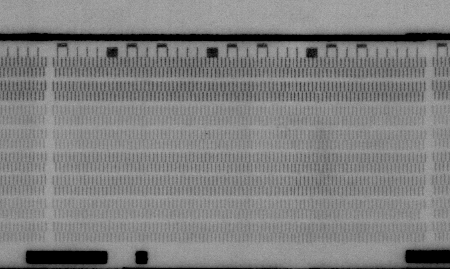Broken hole: (417, 207, 428, 220)
Oblique printing: (313, 92, 325, 105)
